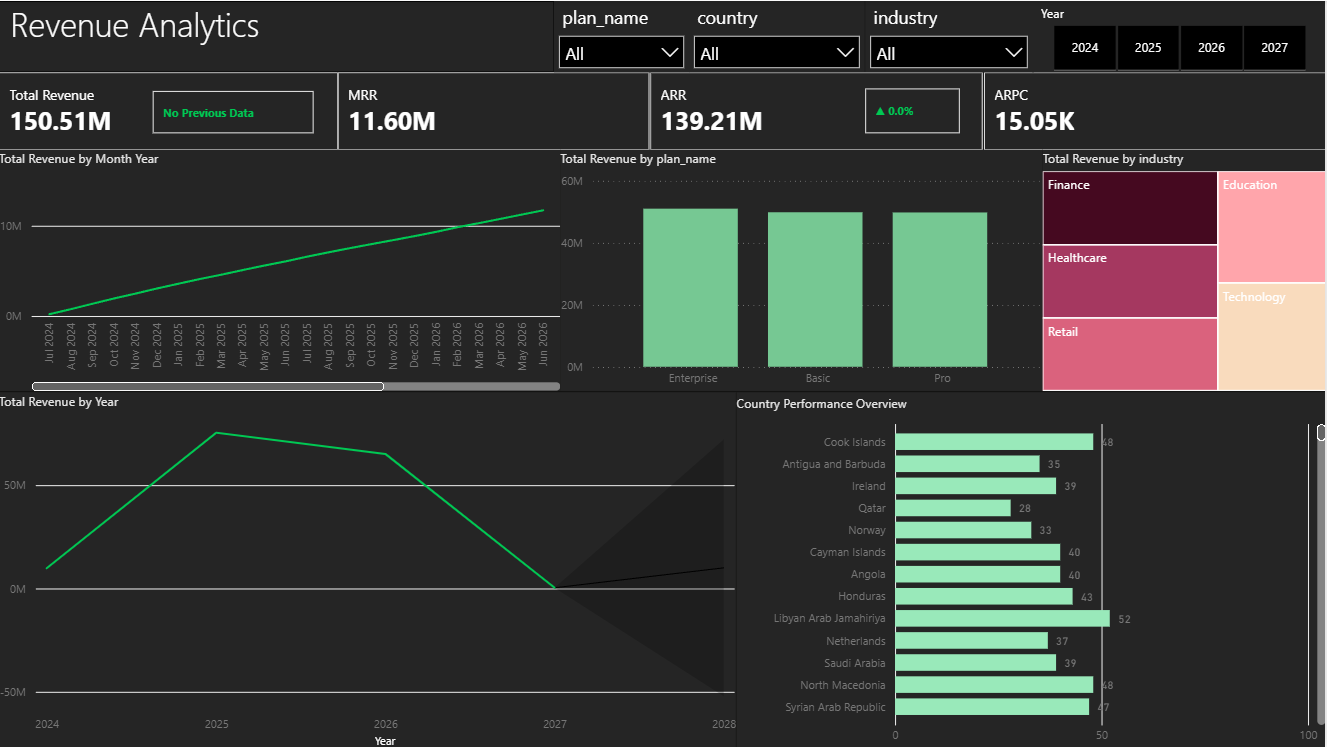

The page's visual inventory and layout, read from the dashboard file:
{"tool":"powerbi","page":{"name":"Page 2","canvas":[1280,720],"ordinal":1},"visuals":[{"type":"textbox","box":[0,0,535.8,69],"z":0},{"type":"cardVisual","fields":{"Data":["ai_startup_command_center campaign_performance.Total Revenue"]},"box":[0,69,327.2,75],"z":1000},{"type":"cardVisual","fields":{"Data":["ai_startup_command_center campaign_performance.MRR"]},"box":[327.2,69,301.7,75],"z":2000},{"type":"cardVisual","fields":{"Data":["ai_startup_command_center campaign_performance.ARR"]},"box":[628.9,69,321.2,75],"z":3000},{"type":"cardVisual","fields":{"Data":["ai_startup_command_center campaign_performance.ARPC"]},"box":[950.1,69,330.2,75],"z":4000},{"type":"lineChart","fields":{"Category":["Date.Month Year"],"Y":["ai_startup_command_center campaign_performance.Total Revenue"]},"box":[0,144.1,541.8,232.6],"z":5000},{"type":"clusteredColumnChart","fields":{"Category":["ai_startup_command_center subscriptions.plan_name"],"Y":["ai_startup_command_center campaign_performance.Total Revenue"]},"box":[541.8,144.1,465.3,232.6],"z":6000},{"type":"barChart","title":"Country Performance Overview","fields":{"Category":["ai_startup_command_center customers.country"],"Y":["CountNonNull(ai_startup_command_center customers.country)"]},"box":[711.4,377.1,568.6,342.9],"z":7000},{"type":"treemap","fields":{"Values":["ai_startup_command_center campaign_performance.Total Revenue"],"Group":["ai_startup_command_center customers.industry"]},"box":[1007.1,144.1,273.2,232.6],"z":8000},{"type":"lineChart","fields":{"Category":["Date.Date.Variation.Date Hierarchy.Year","Date.Date.Variation.Date Hierarchy.Quarter","Date.Date.Variation.Date Hierarchy.Month","Date.Date.Variation.Date Hierarchy.Day"],"Y":["ai_startup_command_center campaign_performance.Total Revenue"]},"box":[0,377.1,711.4,342.9],"z":9000},{"type":"slicer","fields":{"Values":["Date.Date.Variation.Date Hierarchy.Year"]},"box":[998.1,0,282.2,69],"z":10000},{"type":"slicer","fields":{"Values":["ai_startup_command_center customers.country"]},"box":[666.4,0,169.6,69],"z":11000},{"type":"slicer","fields":{"Values":["ai_startup_command_center customers.industry"]},"box":[836,0,162.1,69],"z":12000},{"type":"slicer","fields":{"Values":["ai_startup_command_center subscriptions.plan_name"]},"box":[535.8,0,130.6,69],"z":13000},{"type":"cardVisual","fields":{"Data":["Date.Revenue KPI"]},"box":[148.8,86.9,156,41.7],"z":14000},{"type":"cardVisual","fields":{"Data":["Date.ARR KPI"]},"box":[836,84.1,91.6,43.5],"z":15000}]}

Visuals, with their boxes in screenshot pixels (x1, y1, x2, y2), scaled from the page's 1280x720 canvas onto the 1327x747 screenshot:
textbox: box=[0, 0, 555, 72]
cardVisual - ai_startup_command_center campaign_performance.Total Revenue: box=[0, 72, 339, 149]
cardVisual - ai_startup_command_center campaign_performance.MRR: box=[339, 72, 652, 149]
cardVisual - ai_startup_command_center campaign_performance.ARR: box=[652, 72, 985, 149]
cardVisual - ai_startup_command_center campaign_performance.ARPC: box=[985, 72, 1326, 149]
lineChart - Date.Month Year x ai_startup_command_center campaign_performance.Total Revenue: box=[0, 150, 562, 391]
clusteredColumnChart - ai_startup_command_center subscriptions.plan_name x ai_startup_command_center campaign_performance.Total Revenue: box=[562, 150, 1044, 391]
"Country Performance Overview" barChart: box=[738, 391, 1326, 746]
treemap - ai_startup_command_center campaign_performance.Total Revenue x ai_startup_command_center customers.industry: box=[1044, 150, 1326, 391]
lineChart - Date.Date.Variation.Date Hierarchy.Year x Date.Date.Variation.Date Hierarchy.Quarter: box=[0, 391, 738, 746]
slicer - Date.Date.Variation.Date Hierarchy.Year: box=[1035, 0, 1326, 72]
slicer - ai_startup_command_center customers.country: box=[691, 0, 867, 72]
slicer - ai_startup_command_center customers.industry: box=[867, 0, 1035, 72]
slicer - ai_startup_command_center subscriptions.plan_name: box=[555, 0, 691, 72]
cardVisual - Date.Revenue KPI: box=[154, 90, 316, 133]
cardVisual - Date.ARR KPI: box=[867, 87, 962, 132]
